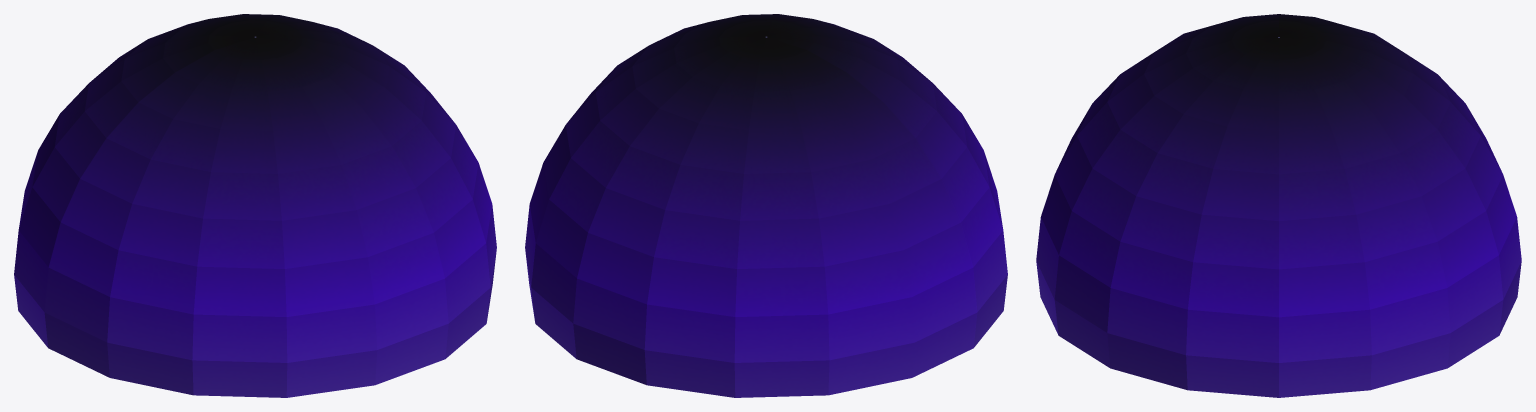
File: SkyDoom.fbx
3 views of the same model, side by side, from view 1: azimuth 30°, elevation 25°; view 2: azimuth 150°, elevation 25°; view 3: azimuth 270°, elevation 25° (orthographic).
Parts seen in each view (by area): view 1: Sphere; view 2: Sphere; view 3: Sphere.
Part boxes in pixels (x1=…): Sphere: x1=14, y1=14, x2=496, y2=397; Sphere: x1=525, y1=14, x2=1007, y2=397; Sphere: x1=1036, y1=14, x2=1521, y2=397.
Bounding box in the file's own units: 195 × 115 × 195.
